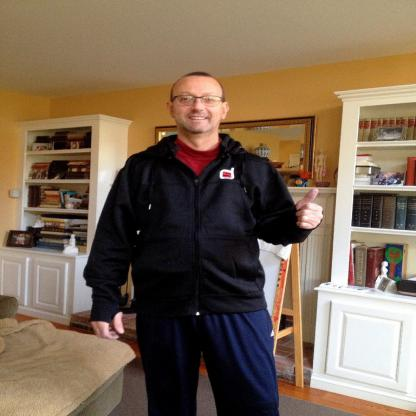book: (346, 242, 416, 291), (3, 216, 92, 251), (350, 193, 416, 228), (24, 186, 86, 211), (354, 118, 416, 141)
